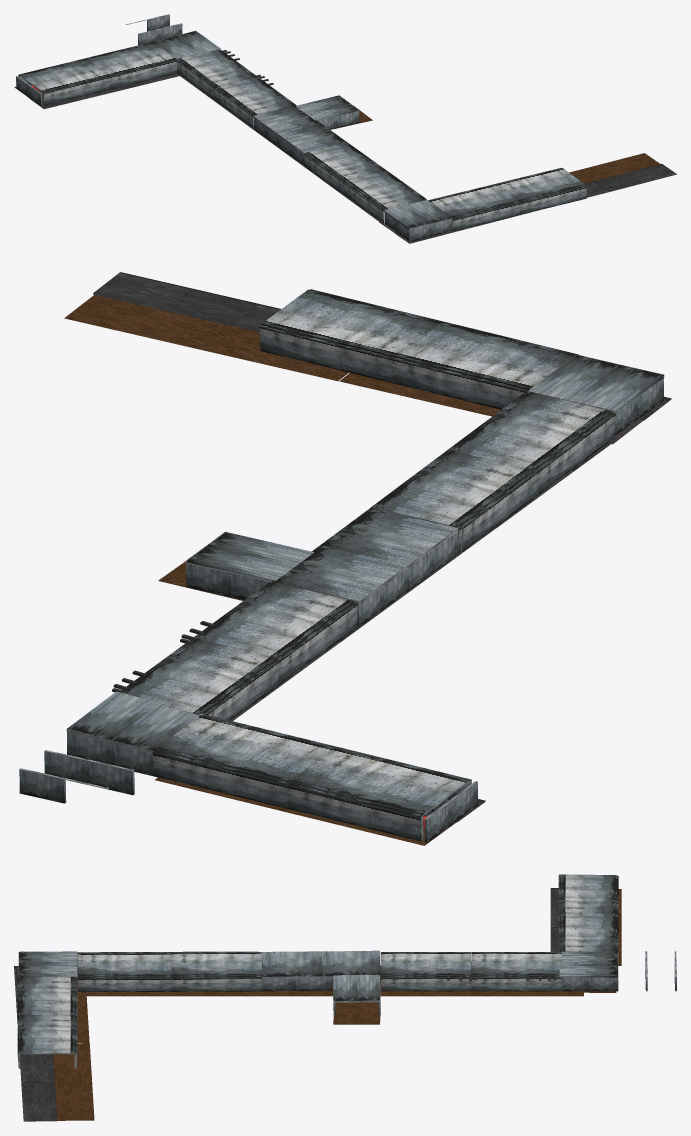
File: PS1metro .fbx
The picture shows the model from 3 angles, top to bottom: view 1: azimuth 30°, elevation 25°; view 2: azimuth 150°, elevation 25°; view 3: azimuth 270°, elevation 25°; orthographic projection. The views are drawn at different scales.
Visible parts, largest first — view 1: subway tunnel, subway tunnel.004, subway tunnel.001, subway tunnel.002, Plane.006, Cube.036, Cube.000, subway tunnel.003, Cube.048, Cube.049, Plane.001, Cube.051 (+2 smaller); view 2: subway tunnel, subway tunnel.004, subway tunnel.001, subway tunnel.002, Plane.006, Cube.036, Cube.049, Cube.000, Cube.048, subway tunnel.003, Cube.051, Cube.050 (+4 smaller); view 3: subway tunnel.002, subway tunnel.001, Plane.006, subway tunnel.004, subway tunnel, Cube.036, Cube.049, Cube.000, Cube.048, Plane.002, Cube.053, Cube.043 (+5 smaller).
Part boxes in pixels (left/top/right/bottom): subway tunnel: left=18, top=42, right=177, bottom=105; subway tunnel.004: left=428, top=167, right=586, bottom=231; subway tunnel.001: left=176, top=49, right=296, bottom=128; subway tunnel.002: left=304, top=142, right=426, bottom=209; Plane.006: left=569, top=153, right=676, bottom=197; Cube.036: left=253, top=105, right=347, bottom=153; Cube.000: left=384, top=200, right=452, bottom=241; subway tunnel.003: left=304, top=153, right=426, bottom=223; Cube.048: left=295, top=95, right=359, bottom=129; Cube.049: left=153, top=30, right=220, bottom=60; Plane.001: left=14, top=73, right=179, bottom=108; Cube.051: left=254, top=118, right=304, bottom=165; subway tunnel: left=152, top=714, right=471, bottom=841; subway tunnel.004: left=259, top=289, right=578, bottom=409; subway tunnel.001: left=119, top=581, right=357, bottom=720; subway tunnel.002: left=371, top=393, right=611, bottom=552; Plane.006: left=64, top=272, right=348, bottom=381; Cube.036: left=271, top=507, right=457, bottom=603; Cube.049: left=66, top=691, right=203, bottom=777; Cube.000: left=528, top=354, right=664, bottom=435; Cube.048: left=186, top=531, right=314, bottom=599; subway tunnel.003: left=453, top=392, right=615, bottom=552; Cube.051: left=356, top=531, right=458, bottom=626; Cube.050: left=44, top=750, right=134, bottom=795; subway tunnel.002: left=80, top=952, right=262, bottom=992; subway tunnel.001: left=381, top=952, right=561, bottom=991; Plane.006: left=20, top=1043, right=94, bottom=1121; subway tunnel.004: left=17, top=976, right=77, bottom=1068; subway tunnel: left=558, top=875, right=618, bottom=953; Cube.036: left=262, top=950, right=380, bottom=978; Cube.049: left=559, top=952, right=618, bottom=991; Cube.000: left=18, top=951, right=77, bottom=977; Cube.048: left=333, top=974, right=380, bottom=1015; Plane.002: left=402, top=979, right=583, bottom=996; Cube.053: left=333, top=1002, right=380, bottom=1024; Cube.043: left=262, top=976, right=332, bottom=991.
Bounding box in the file's own units: 26456 × 917 × 31821.
